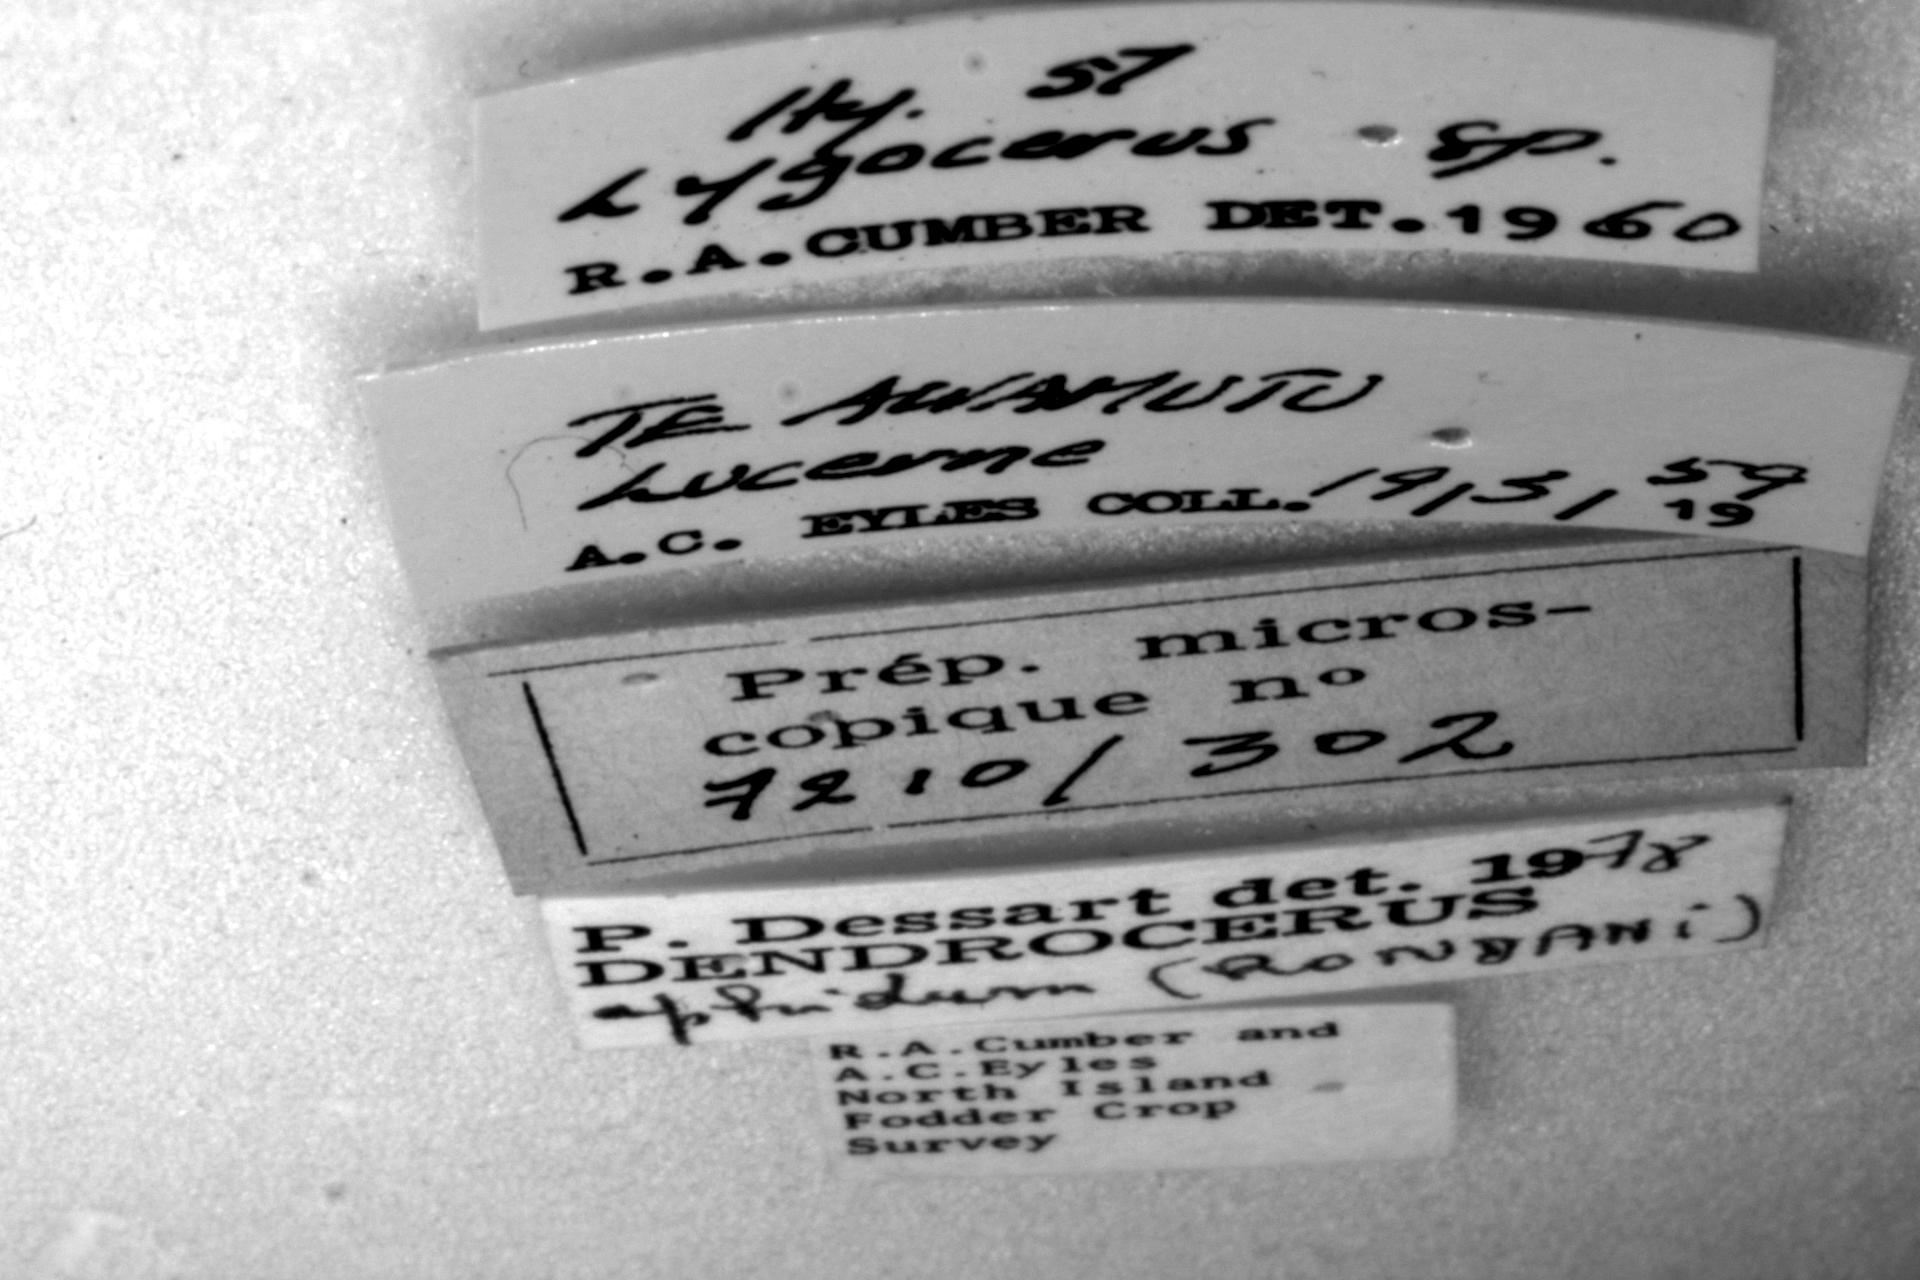mixed_label: (356, 300, 1909, 646), (431, 536, 1867, 893), (476, 4, 1774, 330), (544, 803, 1786, 1050)
typed_label: (810, 1001, 1454, 1181)
